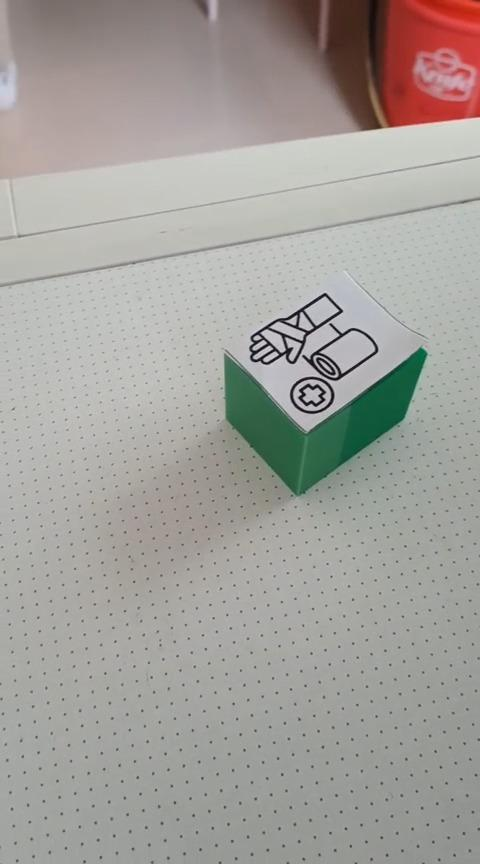Bandages: (224, 268, 430, 497)
